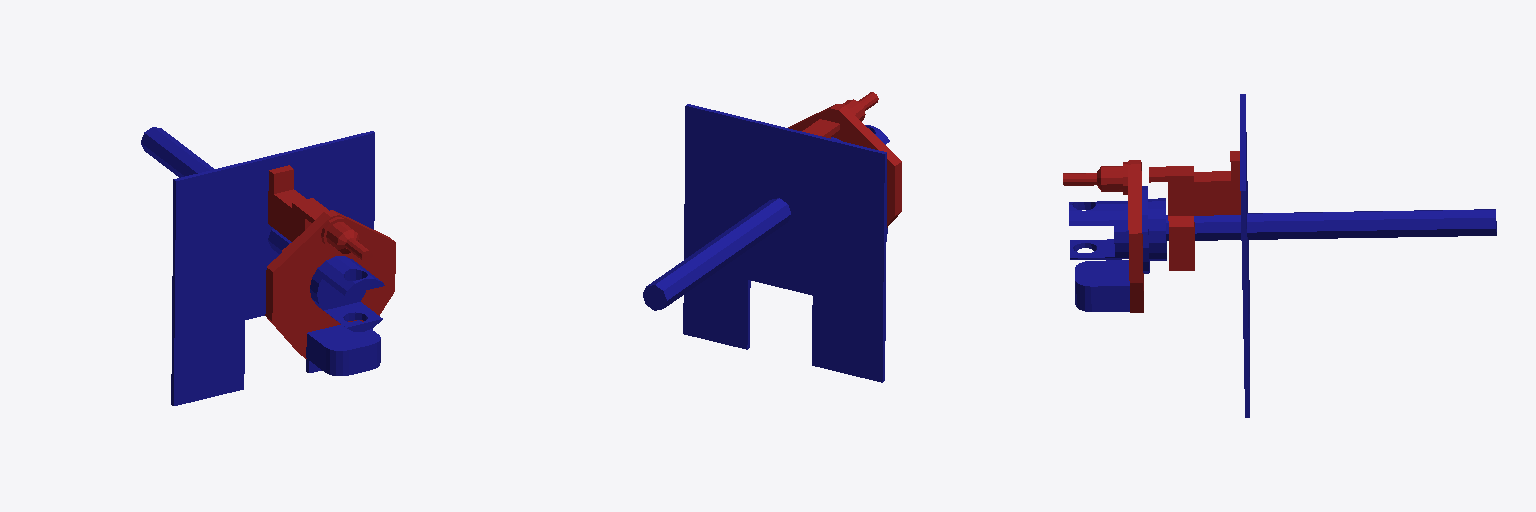
The model's file is B_HFE.obj.
3 views of the same model, side by side, from view 1: azimuth 30°, elevation 25°; view 2: azimuth 150°, elevation 25°; view 3: azimuth 270°, elevation 25° (orthographic).
Bounding box in the file's own units: 4.57 × 4.98 × 8.61.